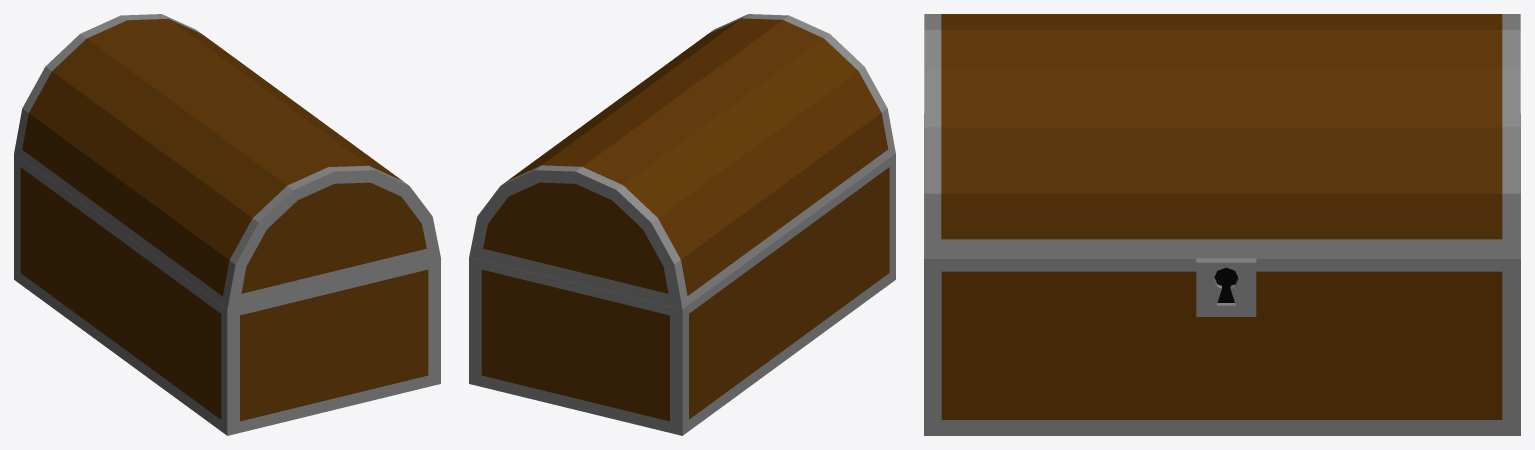
File: TREASURECHEST_V1.fbx
3 views of the same model, side by side, from view 1: azimuth 30°, elevation 25°; view 2: azimuth 150°, elevation 25°; view 3: azimuth 270°, elevation 25° (orthographic). The views are drawn at different scales.
Visible parts, largest first — view 1: Cylinder, Cube; view 2: Cylinder, Cube; view 3: Cylinder, Cube, Cube.001.
Boxes of the visible parts, x1,y1,x2,y2 form: Cylinder: (14,14,440,309); Cube: (14,153,440,435); Cylinder: (469,14,895,309); Cube: (469,153,895,435); Cylinder: (924,14,1520,258); Cube: (924,113,1520,435); Cube.001: (1196,258,1256,316).
Size of the model in its own units: 206 by 213 by 346.
